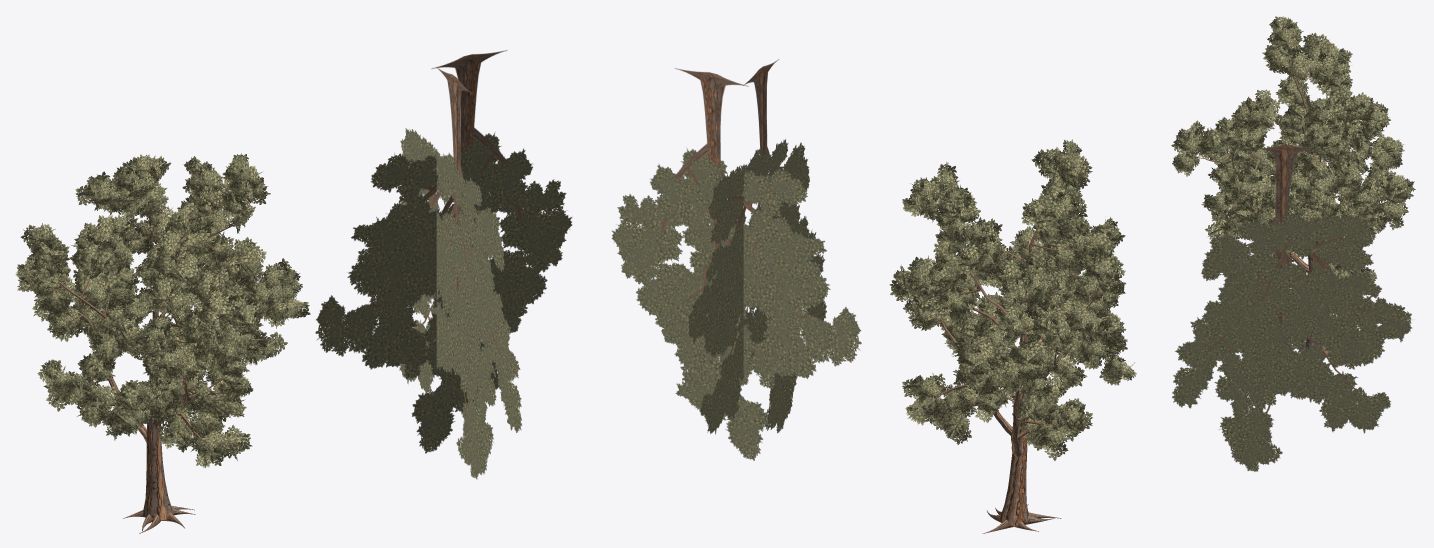
The model's file is tree4.glb.
3 renders of one model, left to right at view 1: azimuth 30°, elevation 25°; view 2: azimuth 150°, elevation 25°; view 3: azimuth 270°, elevation 25°, orthographic. The views are drawn at different scales.
Visible parts, largest first — view 1: Leaves_LOD0.003, Empty.012, Branches_LOD0.003; view 2: Empty.012, Leaves_LOD0.003, Branches_LOD0.003; view 3: Empty.012, Leaves_LOD0.003, Branches_LOD0.003.
Boxes of the visible parts, x1,y1,x2,y2 form: Leaves_LOD0.003: (16,153,310,468); Empty.012: (315,50,572,479); Branches_LOD0.003: (46,181,289,533); Empty.012: (611,59,861,460); Leaves_LOD0.003: (889,139,1136,460); Branches_LOD0.003: (921,170,1109,533); Empty.012: (1172,145,1412,471); Leaves_LOD0.003: (1171,16,1415,296); Branches_LOD0.003: (1189,52,1395,360).
Size of the model in its own units: 65.3 by 45.62 by 31.26.
Materials: 3 (3 with a texture image).
